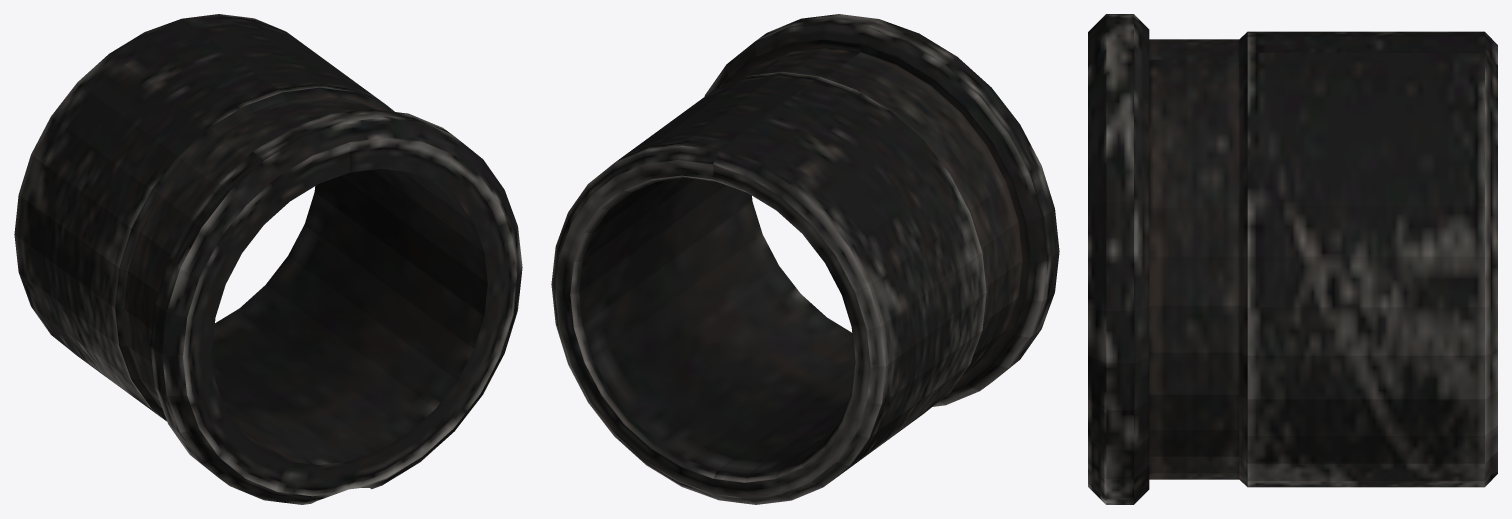
3 renders of one model, left to right at view 1: azimuth 30°, elevation 25°; view 2: azimuth 150°, elevation 25°; view 3: azimuth 270°, elevation 25°, orthographic. The views are drawn at different scales.
Parts seen in each view (by area): view 1: TW_59e8a00d86f7742ad93b569c_PZ_Import; view 2: TW_59e8a00d86f7742ad93b569c_PZ_Import; view 3: TW_59e8a00d86f7742ad93b569c_PZ_Import.
Part boxes in pixels (x1,y1,x2,y2): TW_59e8a00d86f7742ad93b569c_PZ_Import: (14, 14, 522, 504); TW_59e8a00d86f7742ad93b569c_PZ_Import: (551, 14, 1059, 504); TW_59e8a00d86f7742ad93b569c_PZ_Import: (1088, 14, 1497, 504).
Size of the model in its own units: 0.0105 by 0.00879 by 0.0104.
Materials: 1 (1 with a texture image).
